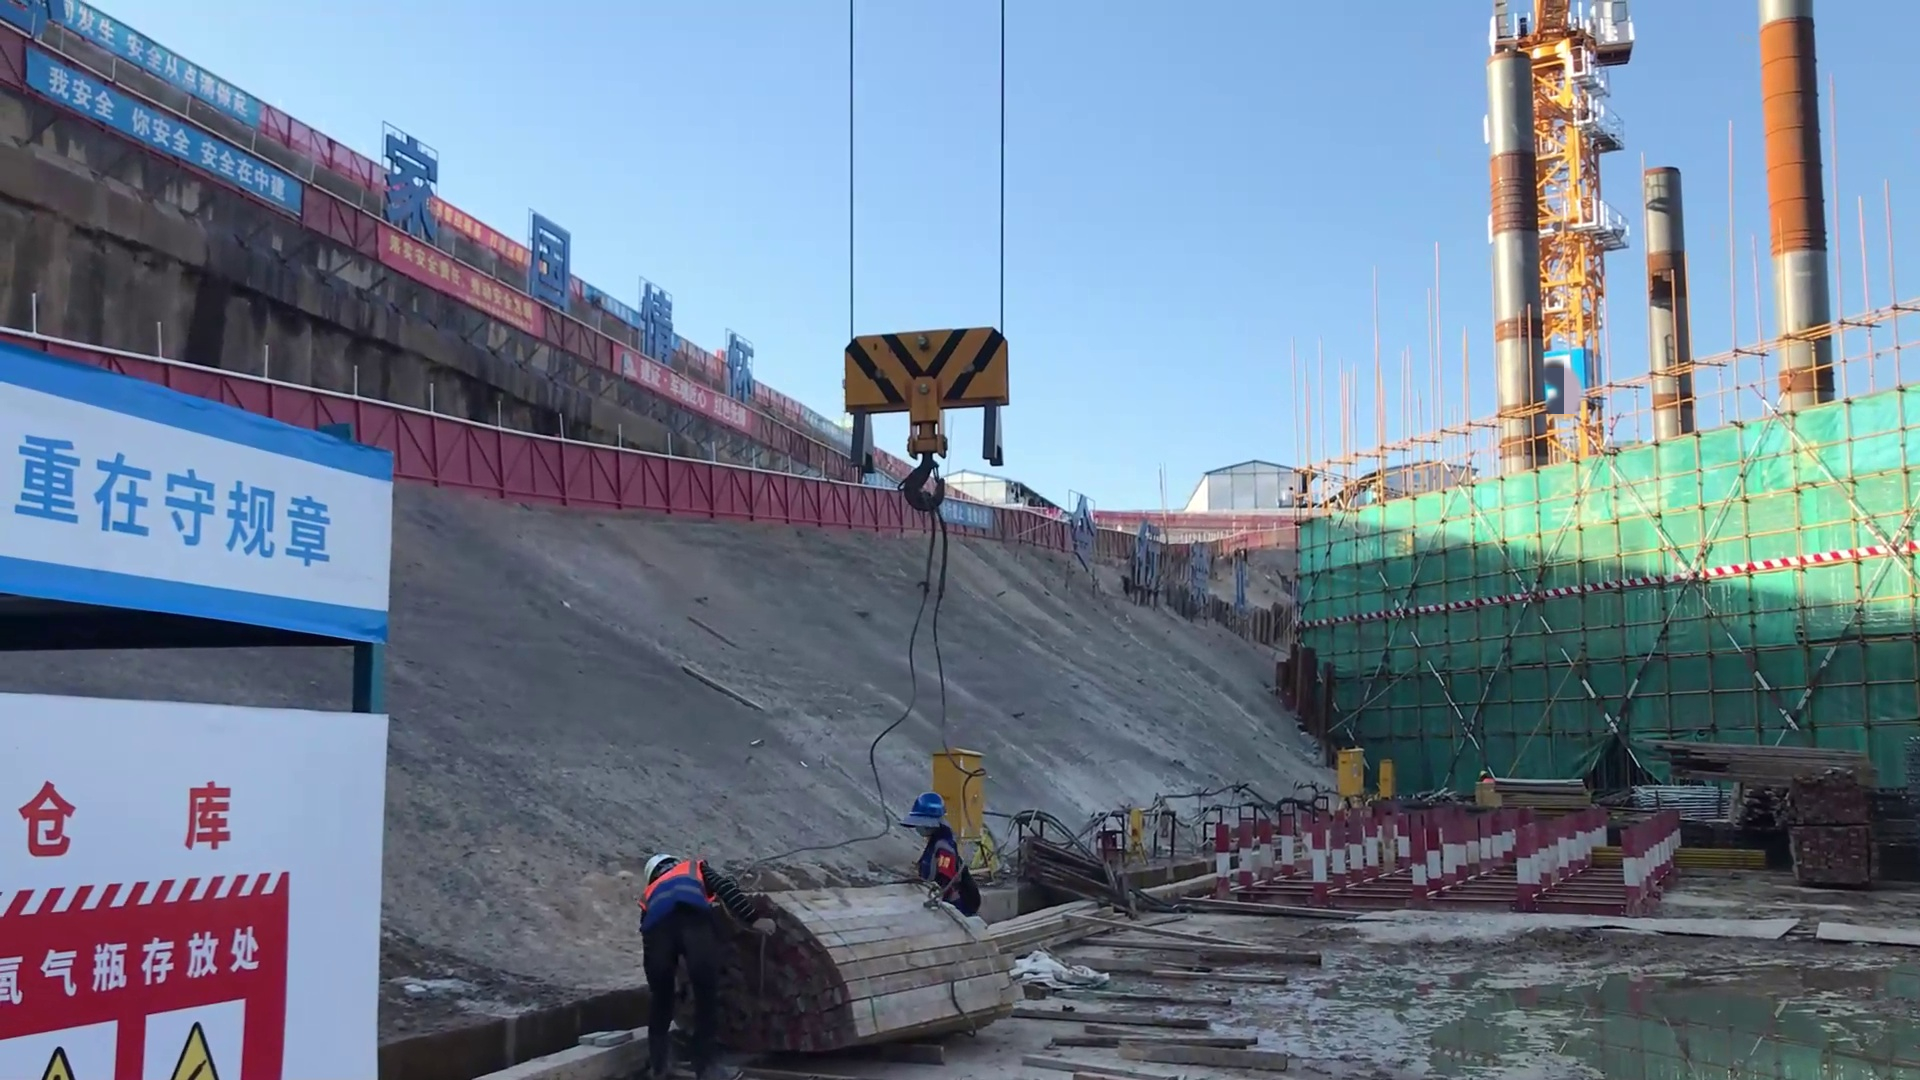ebox: (938, 739, 1001, 849), (1336, 745, 1364, 794), (1376, 759, 1392, 799)
fence: (407, 413, 684, 530), (673, 456, 913, 533)
helmet: (898, 778, 958, 835), (637, 843, 673, 885), (1476, 767, 1486, 776)
hook: (839, 324, 1009, 472)
person: (629, 847, 763, 1074), (902, 786, 987, 914)
slogan: (1, 401, 371, 645), (17, 767, 292, 1080), (31, 53, 313, 219), (44, 1, 255, 144), (376, 222, 555, 337)
wood: (1064, 901, 1317, 1080), (773, 890, 1008, 1057), (1662, 733, 1866, 798)
